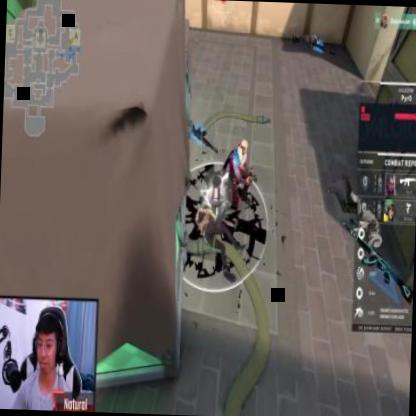enemy: (226, 138, 256, 210)
enemy_head: (240, 139, 246, 154)
